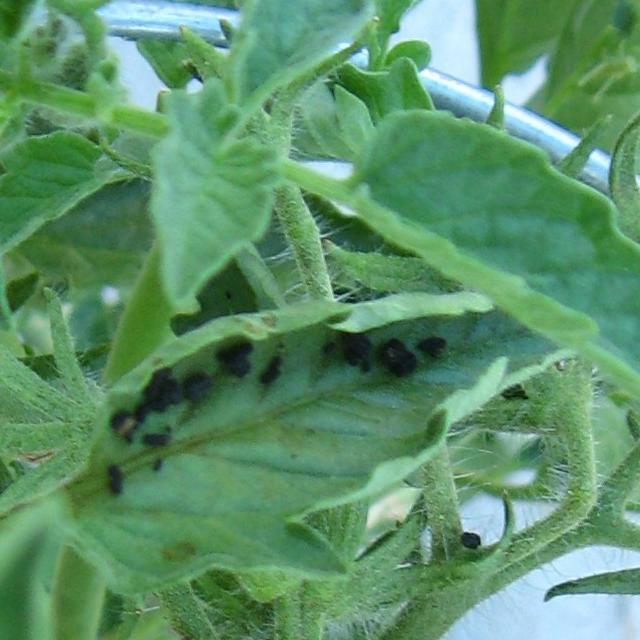Tomato leaf: (324, 121, 640, 454)
